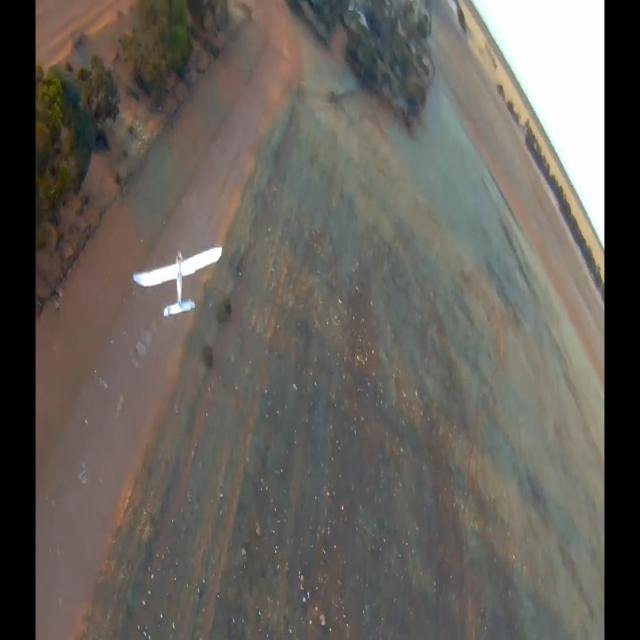iha: (164, 279, 192, 283)
